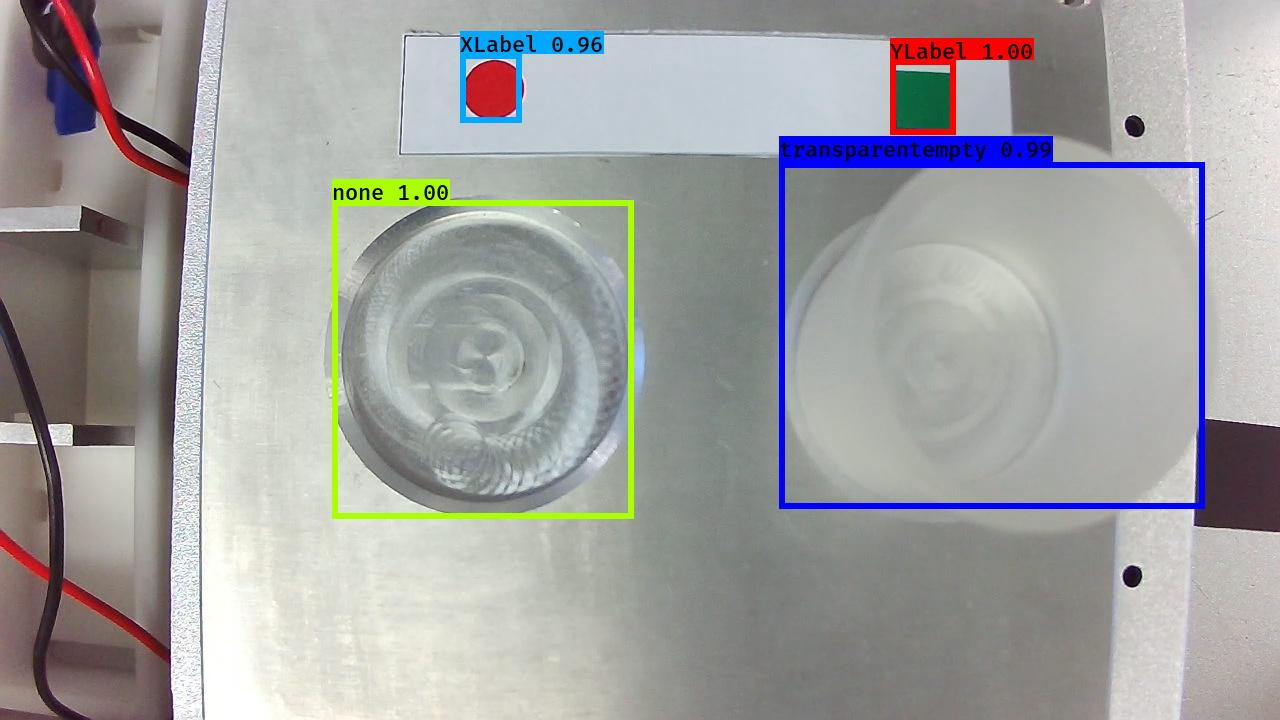XLabel: (460, 56, 529, 125)
YLabel: (890, 63, 961, 136)
none: (313, 190, 652, 525)
transparentempty: (775, 133, 1222, 542)
